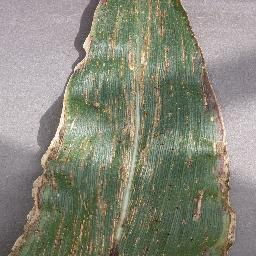Gray_Leaf_Spot: (3, 0, 246, 256)
